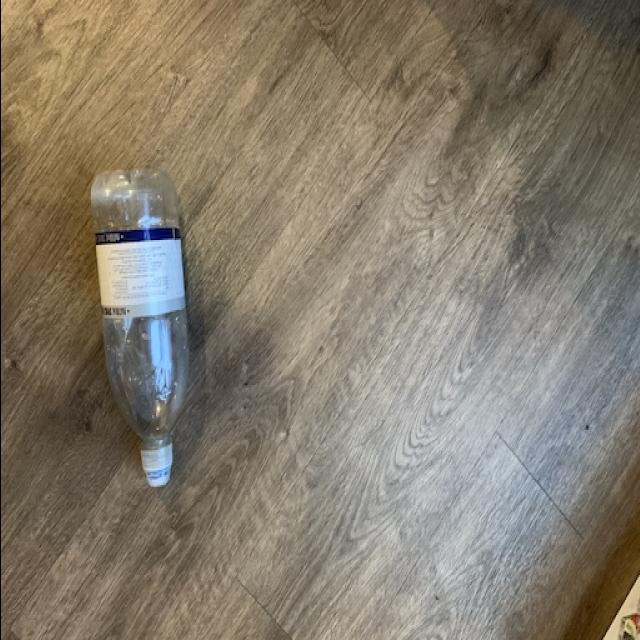litter: (81, 162, 195, 496)
